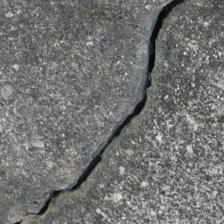Crack: (19, 1, 164, 217)
